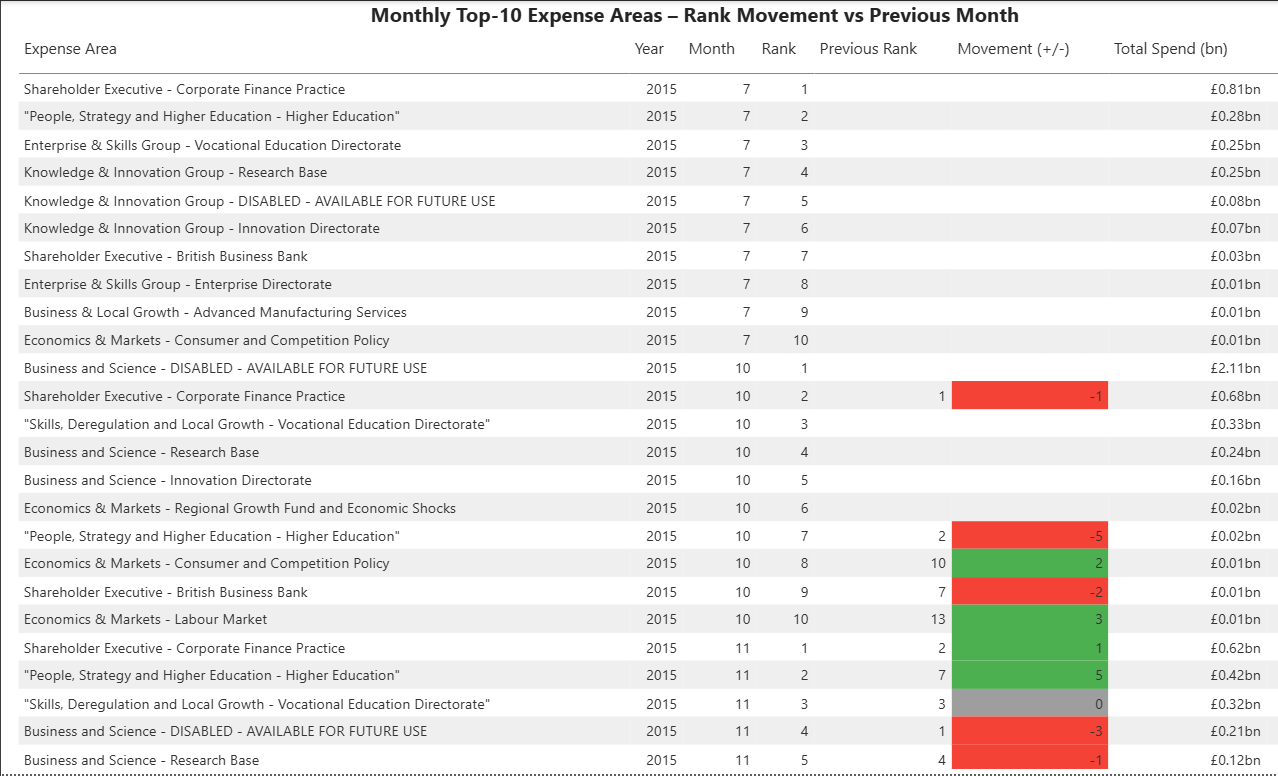

Layout of this report page (visuals, bound fields, positions):
{"tool":"powerbi","page":{"name":"Page 3","canvas":[1280,720],"ordinal":2},"visuals":[{"type":"tableEx","title":"Monthly Top-10 Expense Areas – Rank Movement vs Previous Month","fields":{"Values":["vw_MonthlyExpenseAreaRanking.ExpenseArea","vw_MonthlyExpenseAreaRanking.Year","vw_MonthlyExpenseAreaRanking.Month","vw_MonthlyExpenseAreaRanking.RankNow","vw_MonthlyExpenseAreaRanking.PrevRank","vw_MonthlyExpenseAreaRanking.Movement","vw_MonthlyExpenseAreaRanking.TotalSpent","vw_MonthlyExpenseAreaRanking.SortKey"]},"box":[10.5,0,1269.8,719.8],"z":0}]}

Visuals, with their boxes on the page's 1280x720 design canvas (x1, y1, x2, y2). These are canvas units, not pixel positions in the 1278x776 screenshot, which may show the page scaled, cropped or inside an application window:
"Monthly Top-10 Expense Areas – Rank Movement vs Previous Month" tableEx: Rect(10, 0, 1280, 720)
